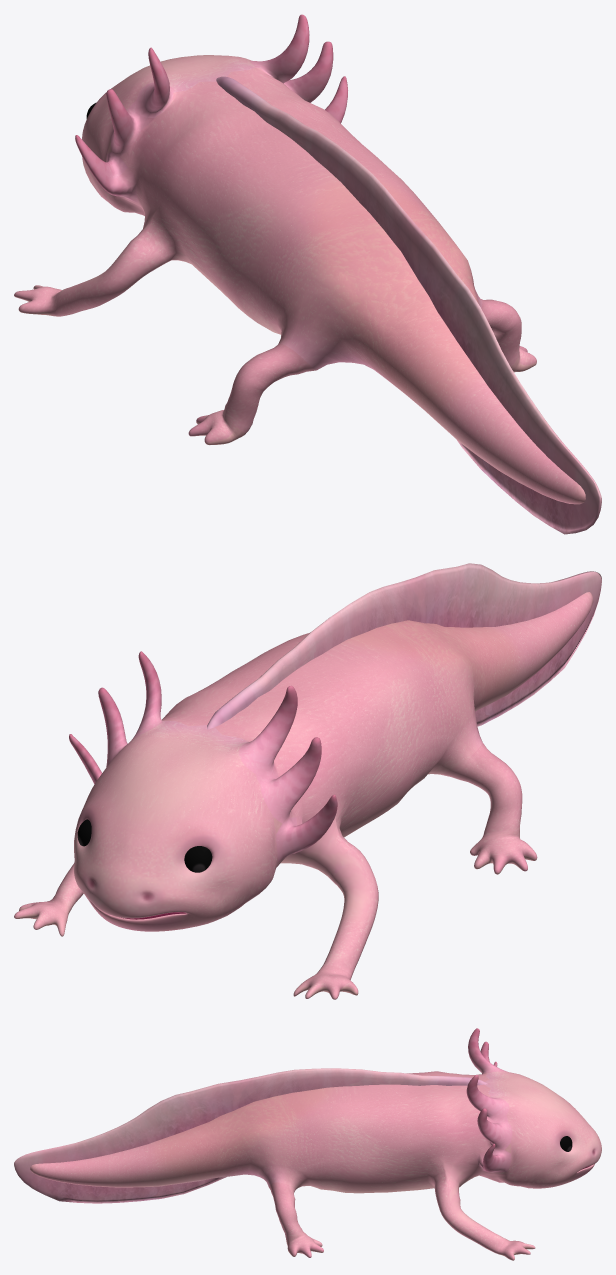
File: Axolotl_with_anims.fbx
3 renders of one model, top to bottom at view 1: azimuth 30°, elevation 25°; view 2: azimuth 150°, elevation 25°; view 3: azimuth 270°, elevation 25°, orthographic. The views are drawn at different scales.
Visible parts, largest first — view 1: Plane.005; view 2: Plane.005; view 3: Plane.005.
Part boxes in pixels (bbox=[...]): Plane.005: bbox=[14, 14, 601, 534]; Plane.005: bbox=[14, 563, 601, 999]; Plane.005: bbox=[14, 1028, 601, 1260].
Size of the model in its own units: 182 by 137 by 446.
